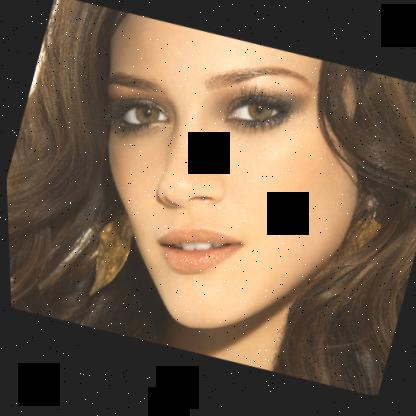Female: (36, 0, 398, 373)
